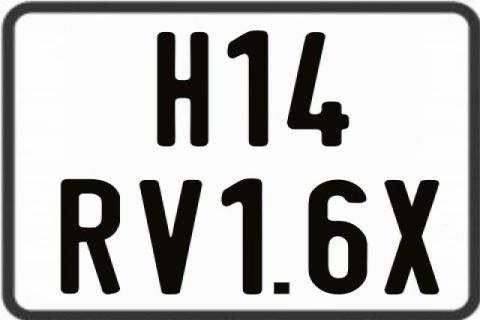0: (286, 31, 353, 146), (308, 179, 373, 293), (221, 176, 268, 292), (226, 30, 268, 146)
H: (155, 31, 209, 149)
R: (59, 178, 123, 298)
V: (138, 180, 200, 299)
X: (385, 180, 443, 294)
